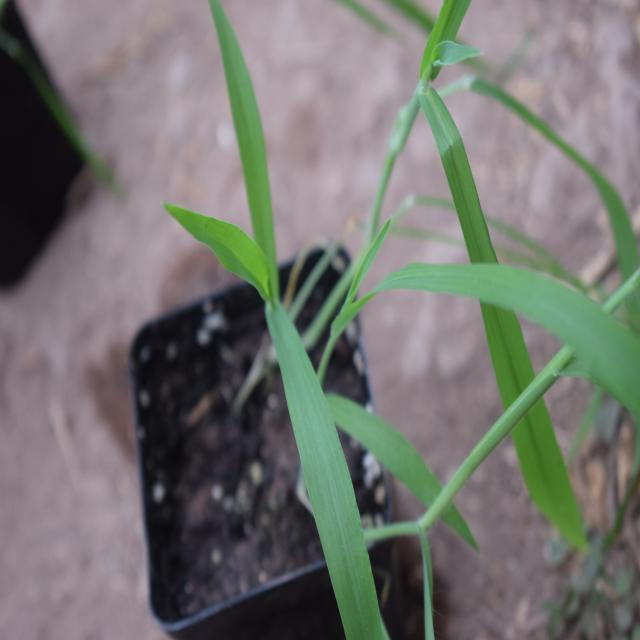crabgrass: (161, 72, 398, 630)
